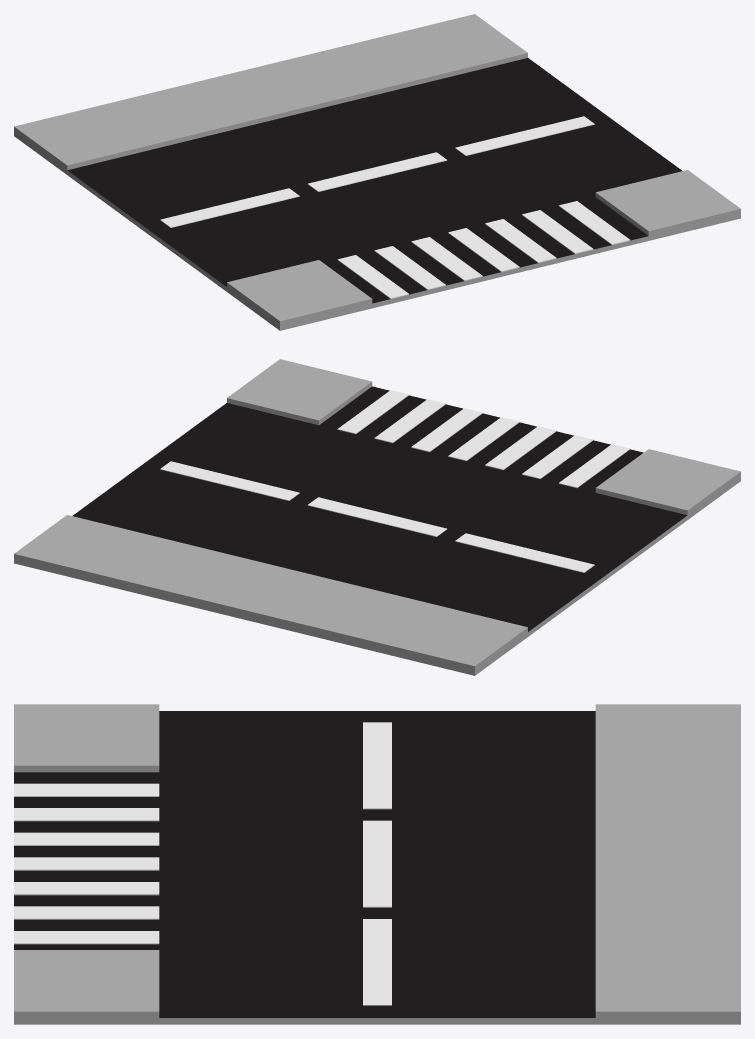
The model's file is Env_Road_Side_02.fbx.
3 views of the same model, one above another, from view 1: azimuth 30°, elevation 25°; view 2: azimuth 150°, elevation 25°; view 3: azimuth 270°, elevation 25° (orthographic). The views are drawn at different scales.
Visible parts, largest first — view 1: Env_Road_Side_02; view 2: Env_Road_Side_02; view 3: Env_Road_Side_02.
Part boxes in pixels (bbox=[...]): Env_Road_Side_02: bbox=[14, 14, 740, 330]; Env_Road_Side_02: bbox=[14, 359, 740, 675]; Env_Road_Side_02: bbox=[14, 704, 740, 1024].
Bounding box in the file's own units: 1000 × 20 × 1000.
